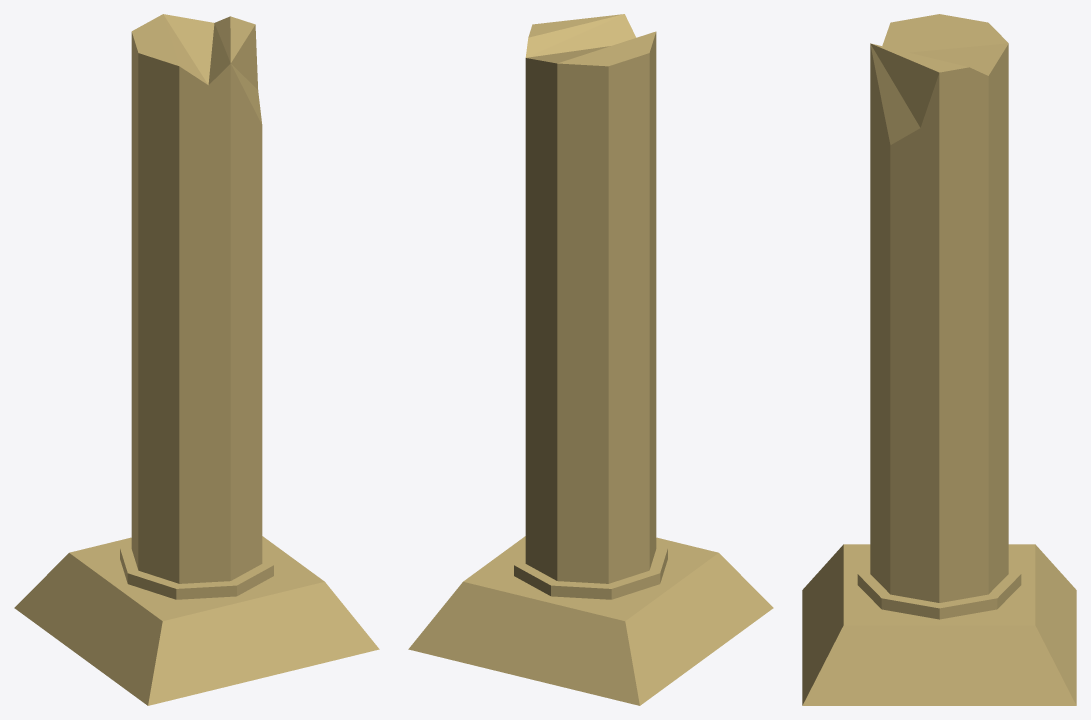
Rendered from Ruins_Pillar_Broken_01.fbx.
3 renders of one model, left to right at view 1: azimuth 30°, elevation 25°; view 2: azimuth 150°, elevation 25°; view 3: azimuth 270°, elevation 25°, orthographic. The views are drawn at different scales.
Visible parts, largest first — view 1: Model; view 2: Model; view 3: Model.
Boxes of the visible parts, left/top/right/bottom form: Model: left=14, top=14, right=379, bottom=705; Model: left=408, top=14, right=773, bottom=705; Model: left=802, top=14, right=1076, bottom=705.
Bounding box in the file's own units: 327 × 796 × 327.
